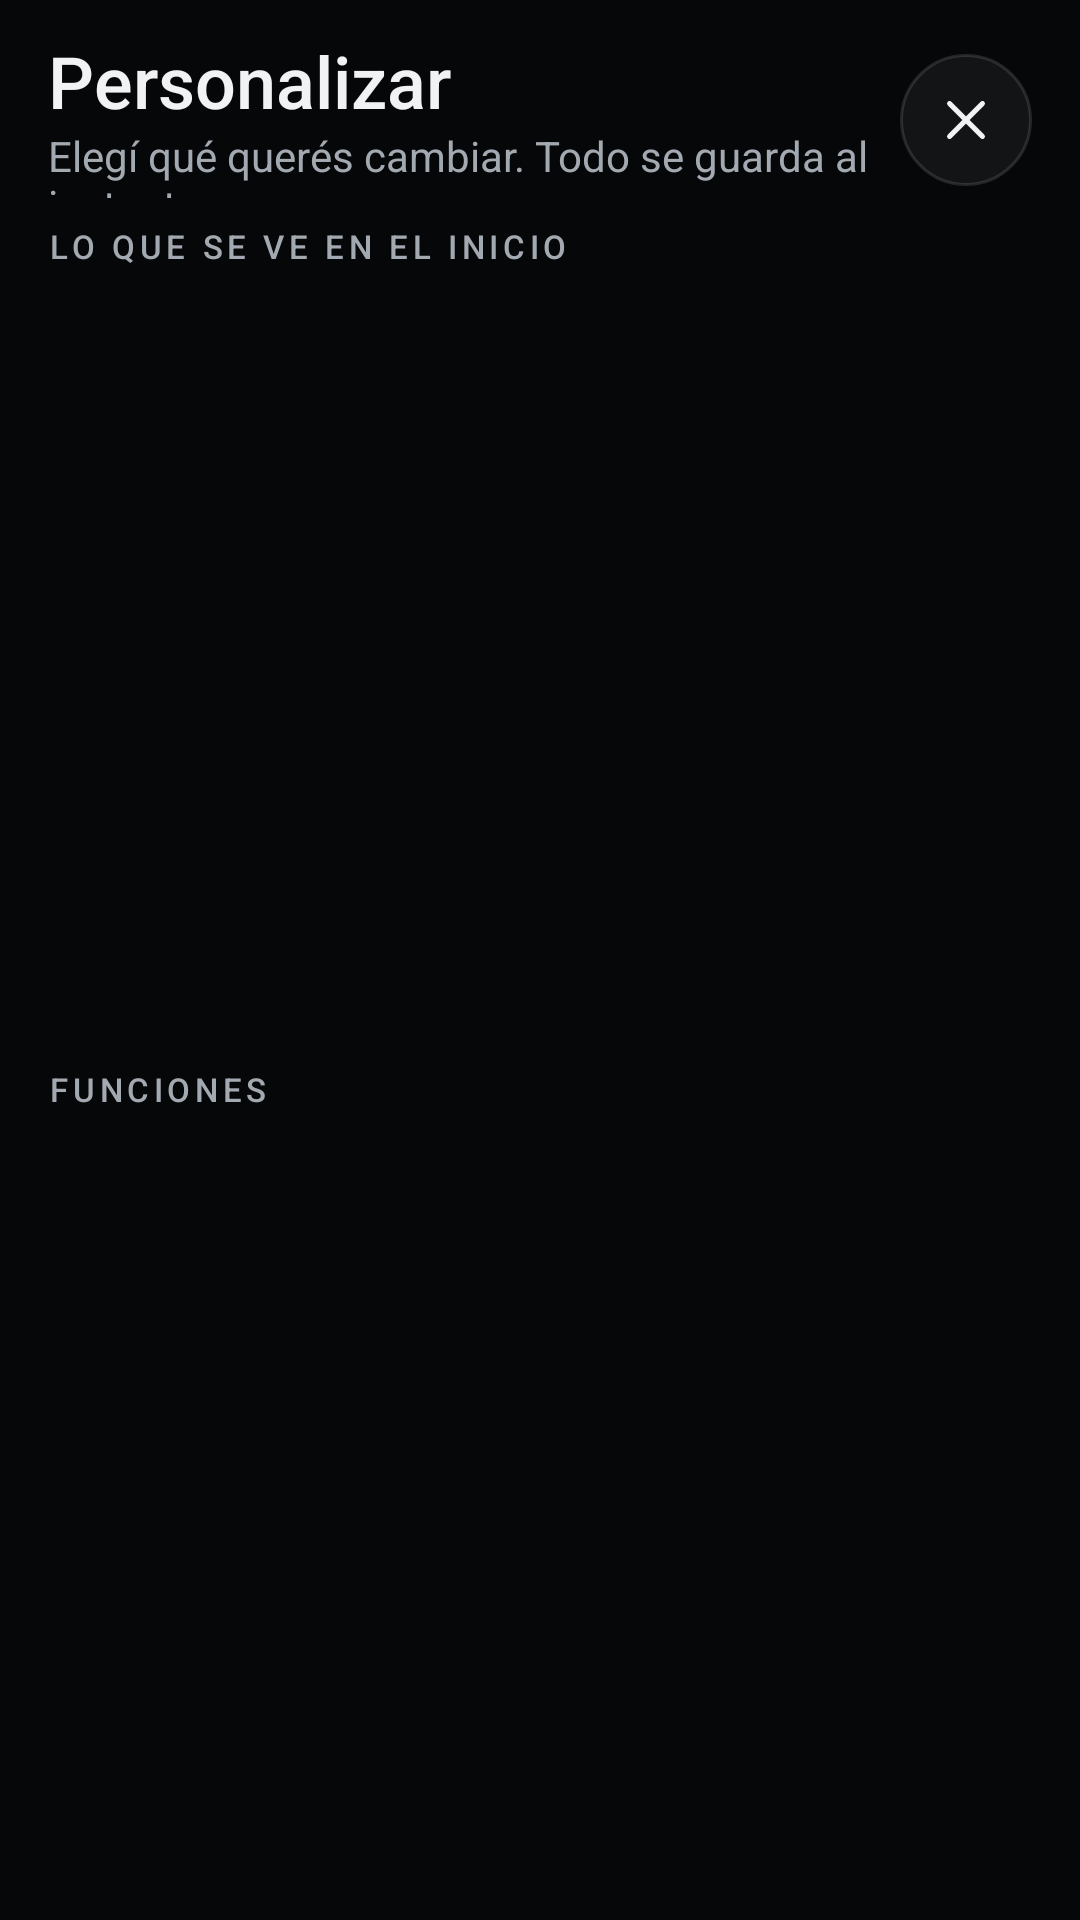

Screen size 1080w x 1920h. Icon name, then its center in pixels as point (x, y):
Cerrar: point (966, 120)
